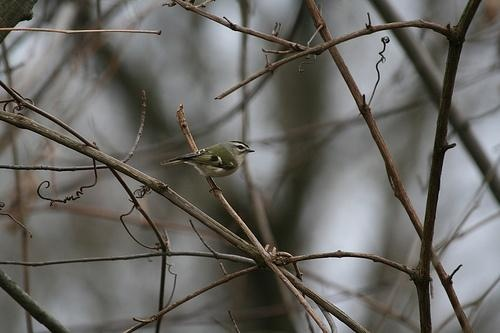bird: (161, 137, 256, 197)
